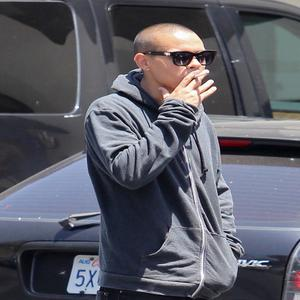cigarette: (191, 69, 212, 80)
